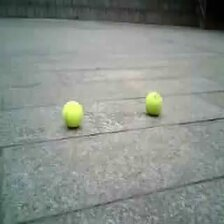tennis: (63, 100, 83, 128), (144, 92, 163, 116)
